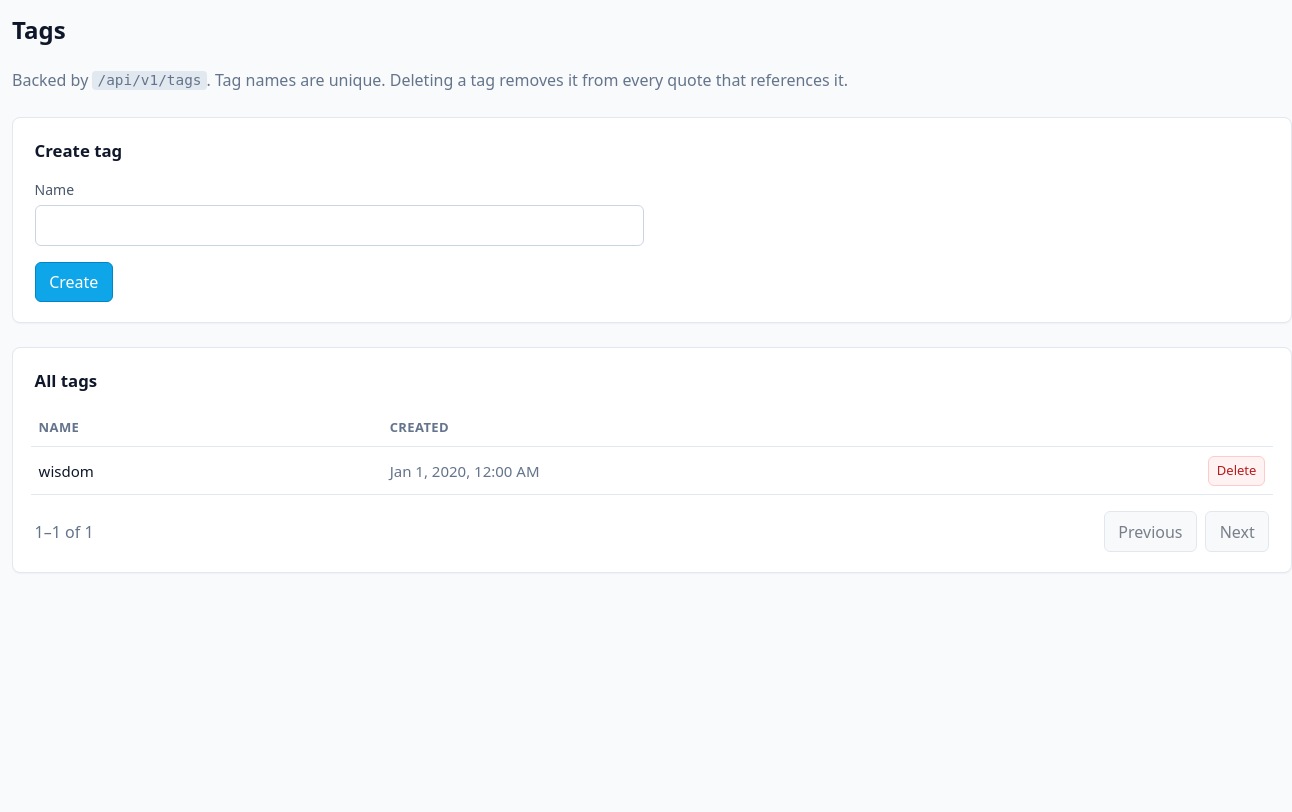
Test case: TagsPage › create form › surfaces server errors (e.g. 409 on duplicate)
Check: the text "wisdom" is shown, box top-left (31, 447), bottom-right (382, 495)
Type "wisdom" into the field named "Tag name" at (339, 226), box top-left (35, 205), bottom-right (644, 246)
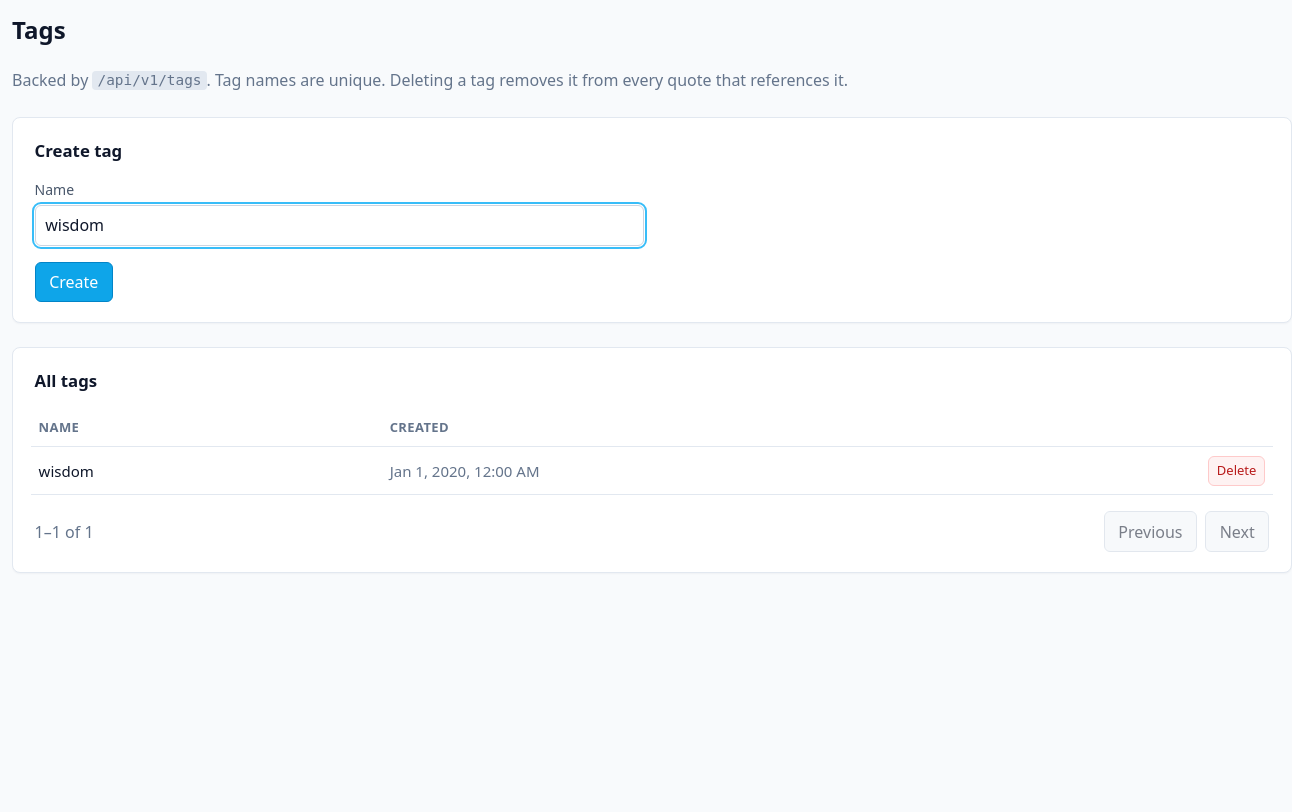
Click the button "Create" at (74, 282), box top-left (35, 262), bottom-right (113, 302)
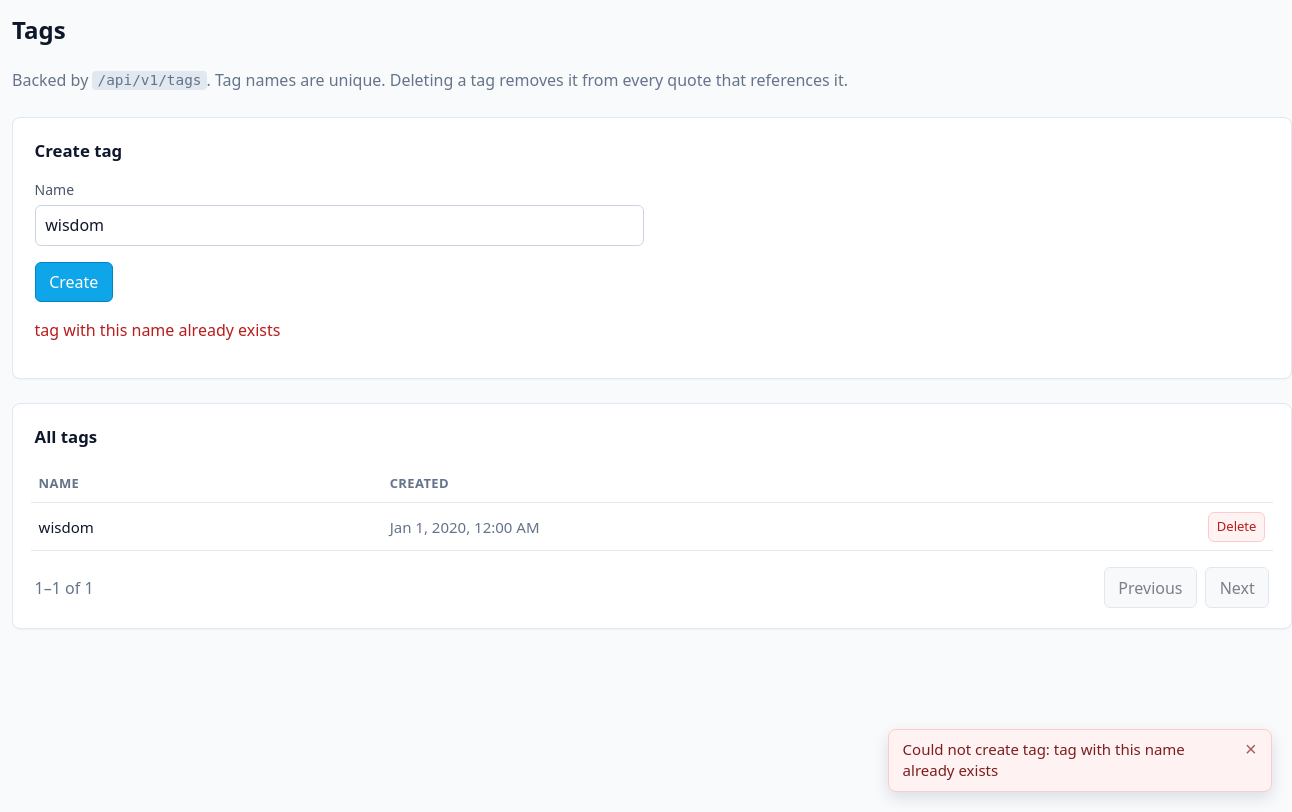
Check: the text "tag with this name already exists" is shown, box top-left (35, 319), bottom-right (280, 341)
